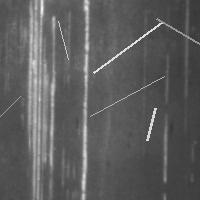scratches: (24, 1, 56, 199), (89, 16, 168, 77), (85, 71, 169, 121), (75, 1, 94, 199), (151, 13, 200, 53), (0, 91, 25, 169), (180, 1, 193, 99), (160, 107, 171, 198), (53, 16, 73, 64), (142, 103, 160, 145)
